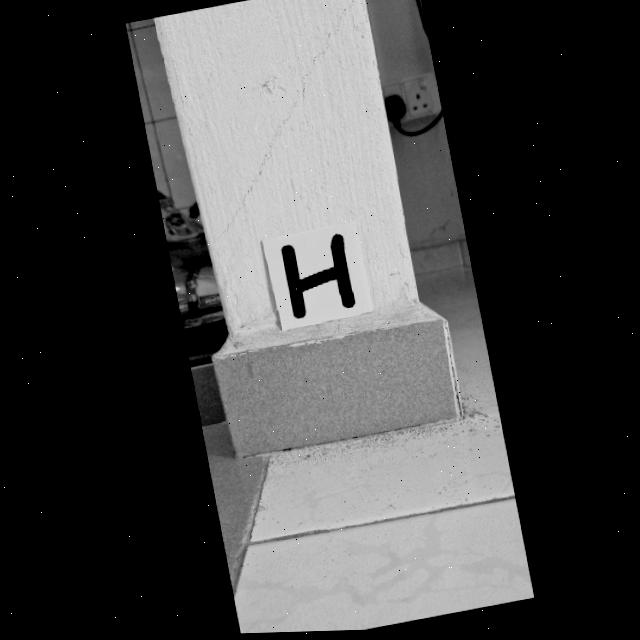H: (279, 236, 353, 320)
